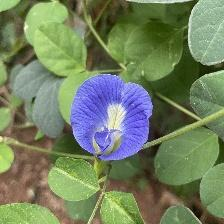shankupushpam: (68, 72, 158, 162)
